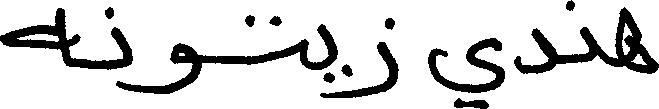ت: (244, 12, 309, 69)
د: (516, 26, 555, 74)
ز: (352, 16, 400, 99)
ن: (101, 4, 132, 71), (564, 1, 597, 63)
ه: (0, 5, 66, 65), (613, 4, 657, 74)
و: (167, 40, 200, 94)
ي: (426, 35, 503, 106), (317, 22, 353, 82)
